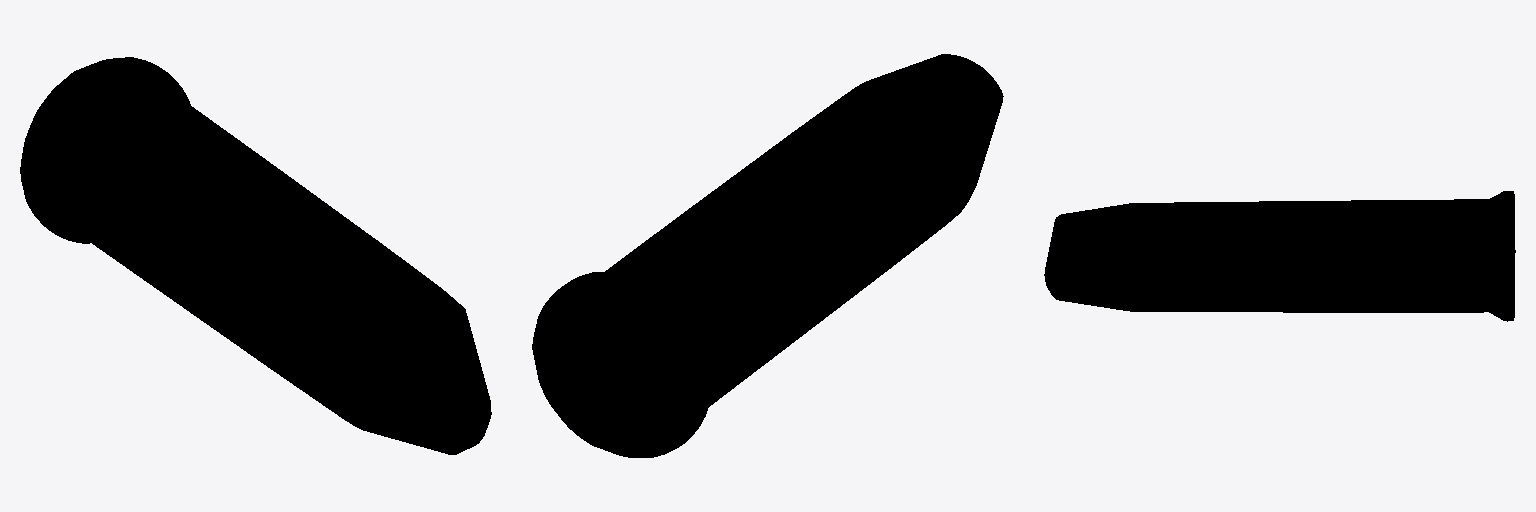
robot.urdf — graspnet-064:

<robot name="graspnet-064">
  <link name="link_graspnet-064">
    <inertial>
      <origin xyz="0 0 0" rpy="0 0 0"/>
    </inertial>
    <visual>
      <origin xyz="0 0 0" rpy="0 0 0"/>
      <geometry>
        <mesh filename="decomposed.obj"/>
      </geometry>
      <material name="">
        <color rgba="0 0 0 1"/>
      </material>
    </visual>
    <collision>
      <origin xyz="0 0 0" rpy="0 0 0"/>
      <geometry>
        <mesh filename="decomposed.obj"/>
      </geometry>
    </collision>
  </link>
</robot>

--- Facts derived from the render (not from the file) ---
Views: 3 orthographic renders of the robot side by side, from view 1: azimuth 30°, elevation 25°; view 2: azimuth 150°, elevation 25°; view 3: azimuth 270°, elevation 25°.
Robot: graspnet-064 — 1 links, 0 joints (none); root link link_graspnet-064; default pose: all joints at 0.
Visible links, largest first — view 1: link_graspnet-064; view 2: link_graspnet-064; view 3: link_graspnet-064.
Link boxes in pixels (bbox=[...]): link_graspnet-064: bbox=[20, 57, 491, 454]; link_graspnet-064: bbox=[532, 54, 1003, 457]; link_graspnet-064: bbox=[1044, 191, 1515, 321].
Bounding box of the posed robot: 0.0502 × 0.1802 × 0.0501 m (x, y, z).
Meshes: 1 distinct files referenced, 1 mesh visuals loaded (1 OBJ).
